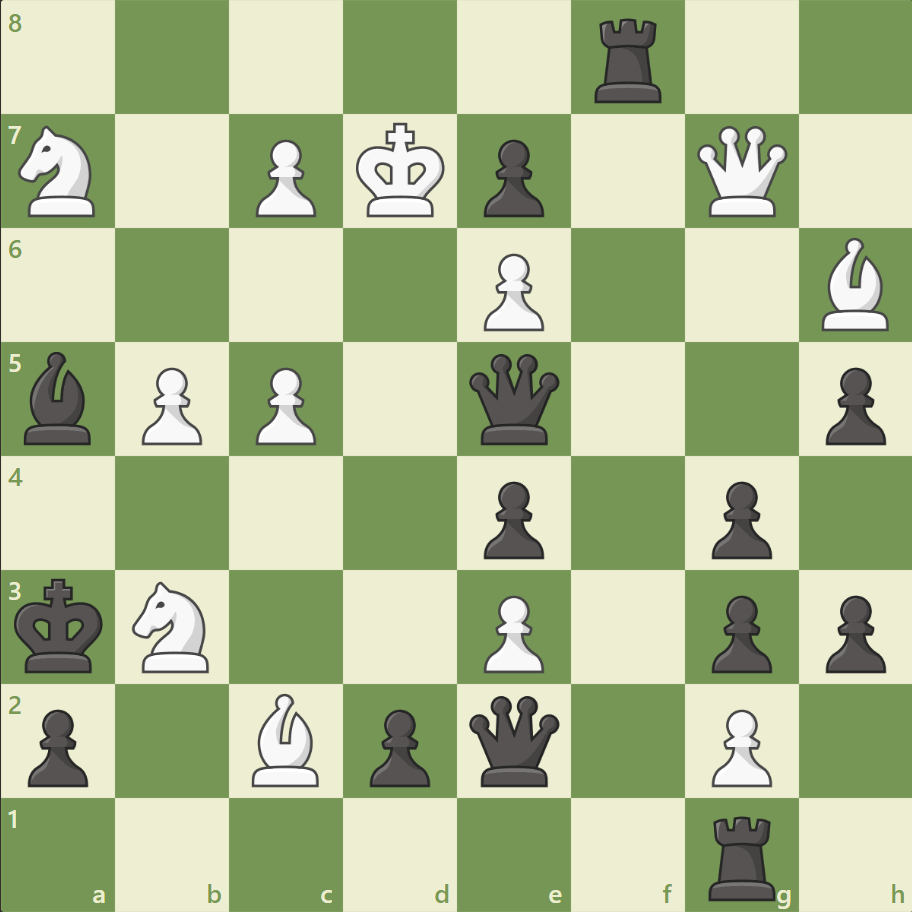B: (812, 233, 896, 336), (244, 687, 328, 790)
K: (351, 117, 451, 225)
N: (124, 575, 222, 677), (11, 121, 108, 223)
P: (247, 132, 322, 223), (474, 246, 549, 337), (133, 359, 208, 450), (247, 359, 322, 450), (474, 586, 549, 677), (701, 700, 776, 791)
Q: (691, 122, 790, 222)
b: (17, 347, 101, 449)
k: (11, 571, 111, 679)
p: (474, 132, 549, 223), (474, 473, 549, 564), (701, 473, 776, 564), (701, 586, 776, 677), (20, 700, 95, 791), (815, 359, 889, 450), (815, 586, 889, 677), (361, 700, 435, 791)
q: (464, 349, 563, 449), (464, 690, 563, 789)
r: (700, 806, 783, 904), (587, 12, 670, 109)
